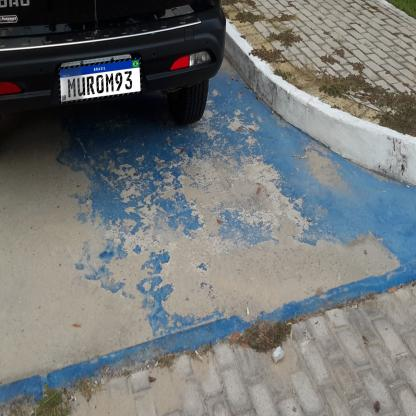PlacaM: (58, 57, 142, 104)
